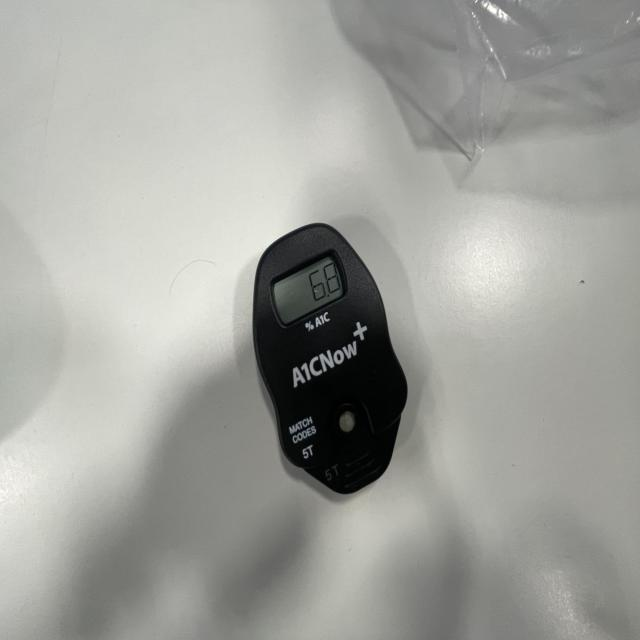hba1c: (250, 224, 409, 502)
